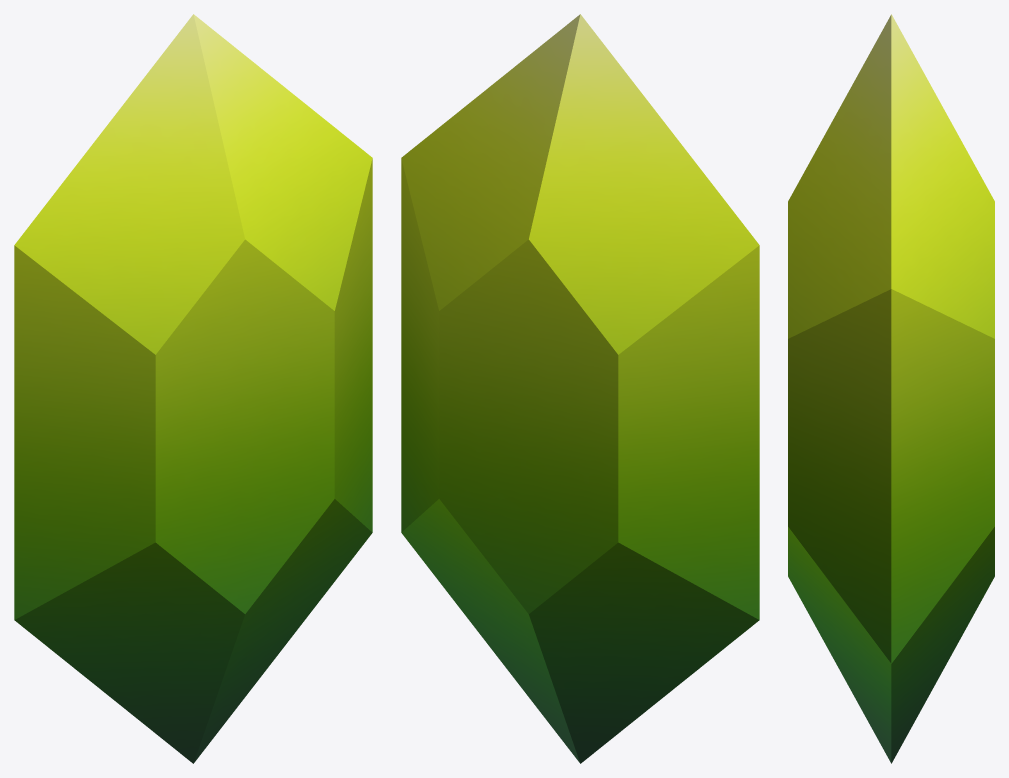
Rendered from gem_daily_3.dae.
3 views of the same model, side by side, from view 1: azimuth 30°, elevation 25°; view 2: azimuth 150°, elevation 25°; view 3: azimuth 270°, elevation 25° (orthographic).
Parts seen in each view (by area): view 1: Gem12; view 2: Gem12; view 3: Gem12.
Boxes of the visible parts, x1,y1,x2,y2 form: Gem12: [14, 14, 372, 763]; Gem12: [401, 14, 759, 763]; Gem12: [788, 14, 994, 763].
Bounding box in the file's own units: 0.5 × 0.25 × 1.
